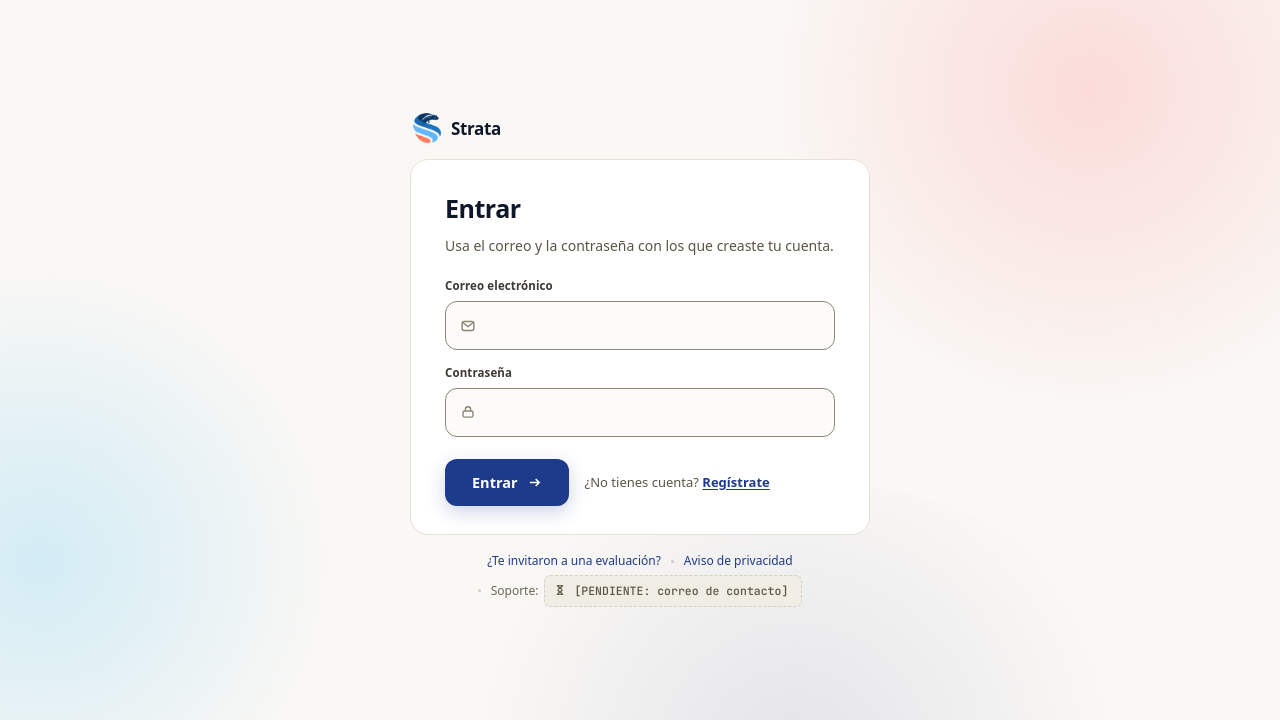
it: Login › un error del servidor (500) también se distingue de las credenciales
In the field labelled "Correo electrónico": (655, 326) [476,302,834,349], type "ana@empresa.mx"
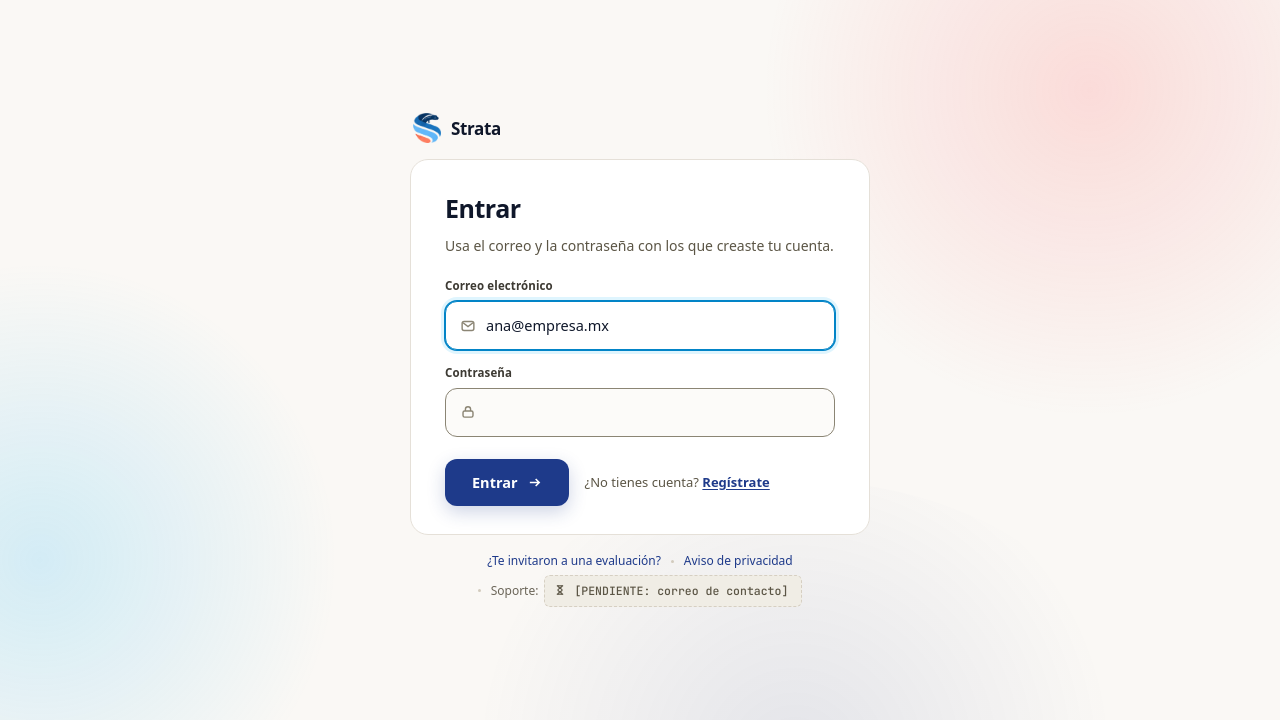
In the password field labelled "Contraseña": (655, 412) [476,389,834,436], type "secreta123"
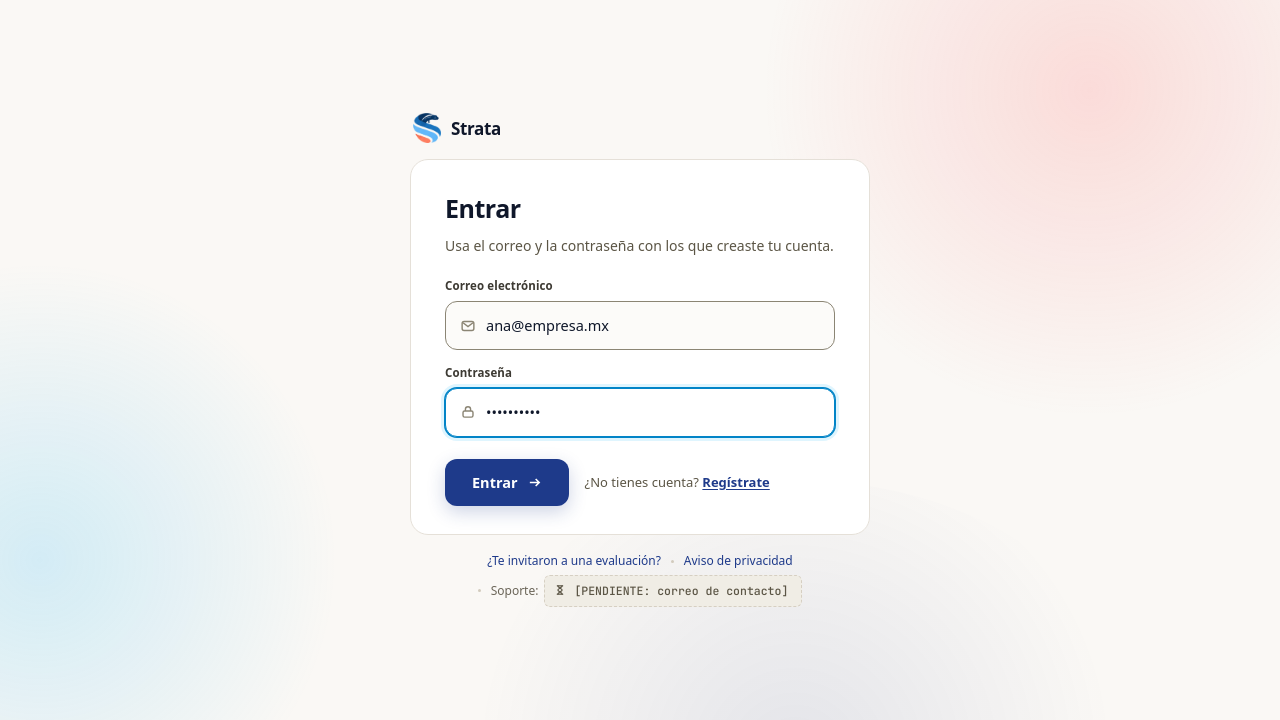
Click the button "Entrar": (507, 483) [445,459,569,506]
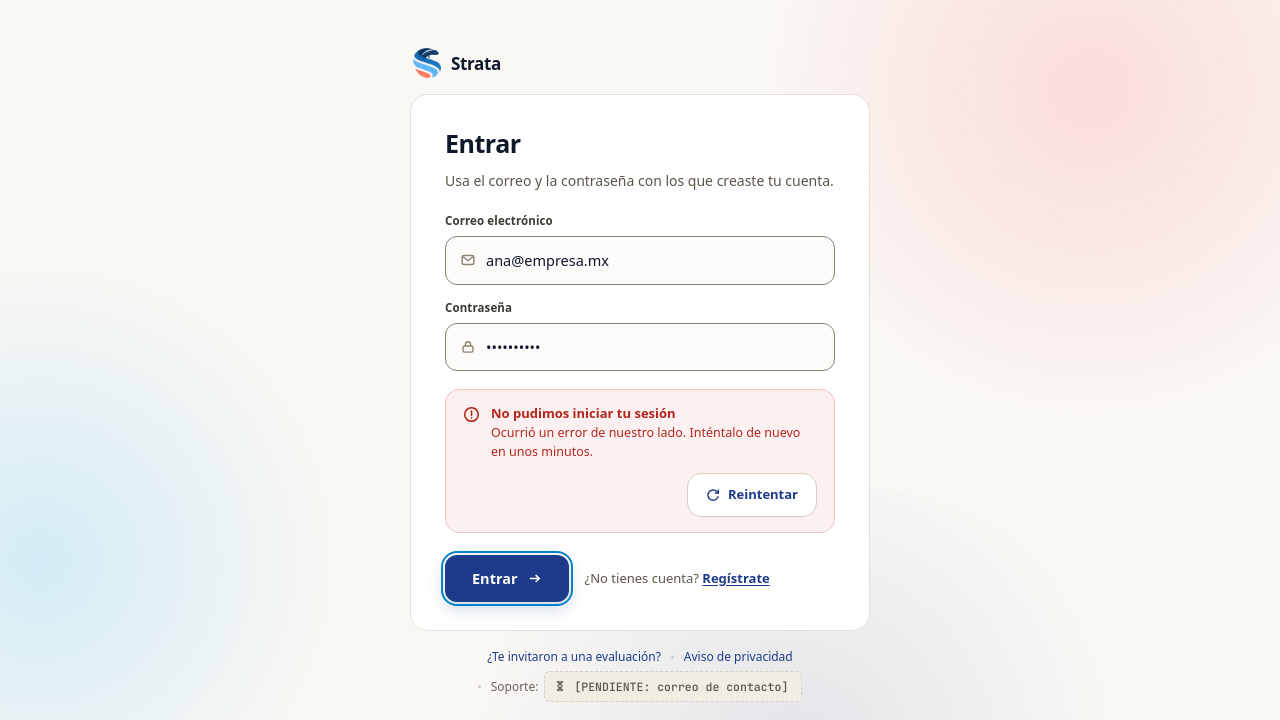
Result: the message shows "No pudimos iniciar tu sesión" at [491,404,676,422]
Result: the button "Reintentar" is shown at [687,473,817,517]
